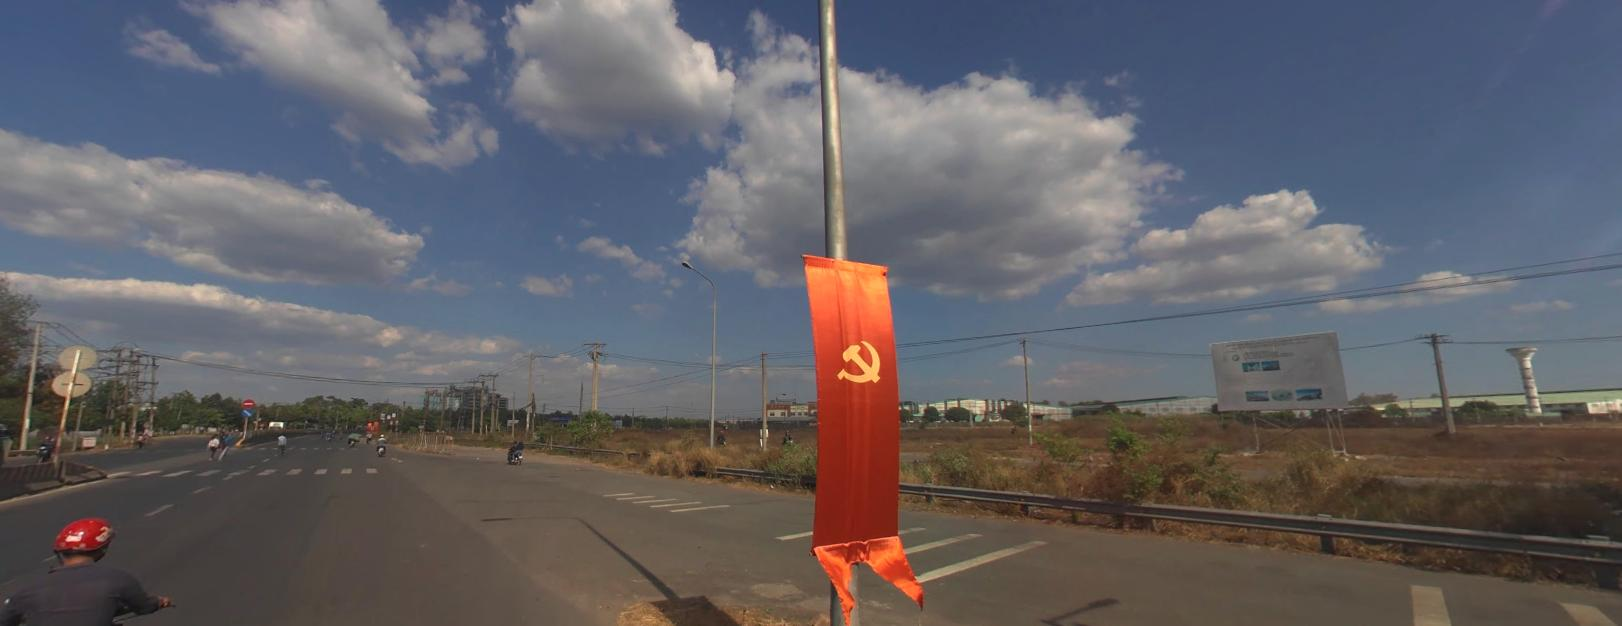Cam nguoc chieu: (243, 397, 254, 406)
Hieu lenh: (241, 407, 252, 416)
